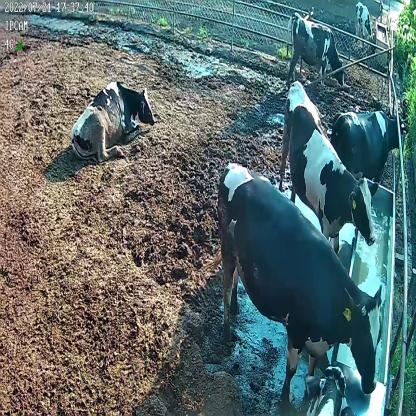cow: (218, 162, 384, 398), (277, 81, 376, 256), (69, 76, 154, 162), (331, 107, 407, 186), (285, 13, 348, 90)
